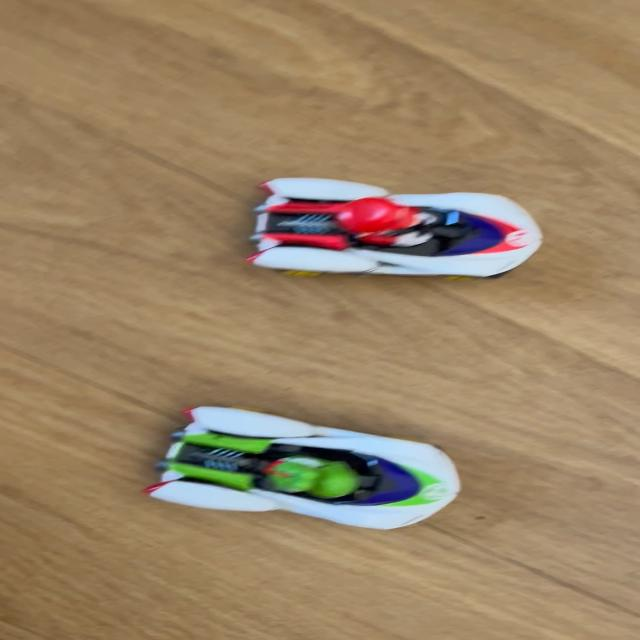mario: (220, 175, 567, 292)
yoshi: (126, 394, 488, 536)
